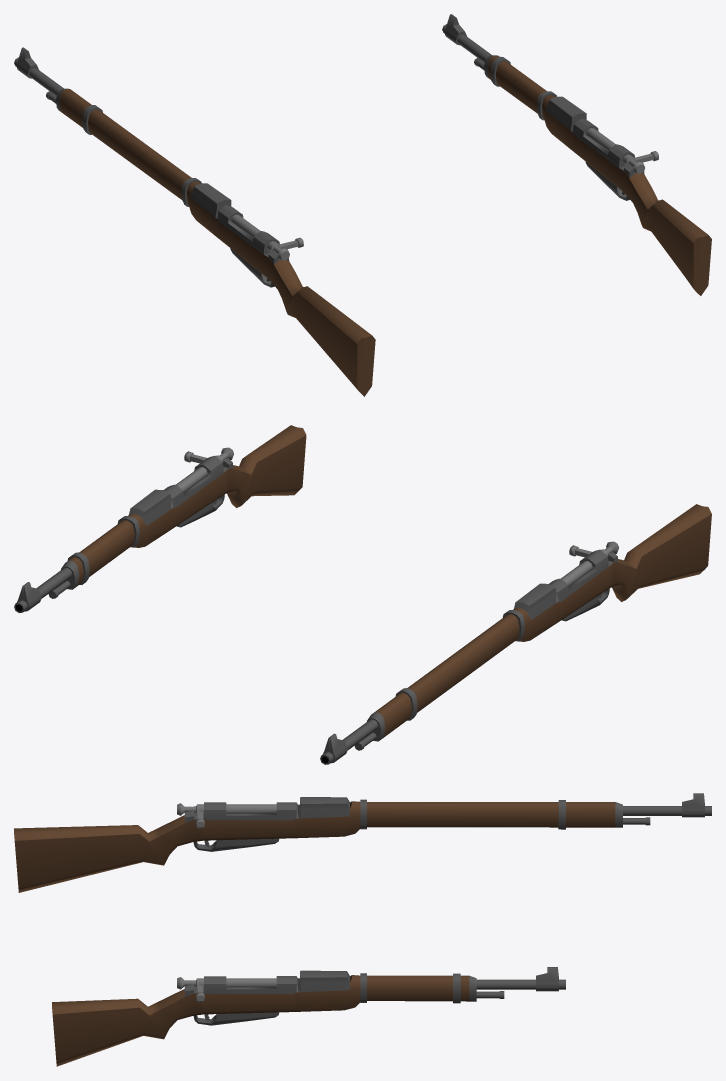
The model's file is Mosin Nagant Rifle.fbx.
The picture shows the model from 3 angles, top to bottom: view 1: azimuth 30°, elevation 25°; view 2: azimuth 150°, elevation 25°; view 3: azimuth 270°, elevation 25°; orthographic projection. The views are drawn at different scales.
Visible parts, largest first — view 1: MosinNagant, MosinCarbine; view 2: MosinNagant, MosinCarbine; view 3: MosinNagant, MosinCarbine.
Part boxes in pixels (x1=…): MosinNagant: x1=14, y1=47, x2=375, y2=396; MosinCarbine: x1=442, y1=14, x2=711, y2=295; MosinNagant: x1=320, y1=504, x2=711, y2=764; MosinCarbine: x1=14, y1=425, x2=306, y2=612; MosinNagant: x1=14, y1=793, x2=711, y2=892; MosinCarbine: x1=52, y1=967, x2=565, y2=1066.
Bounding box in the file's own units: 111 × 26.68 × 170.
